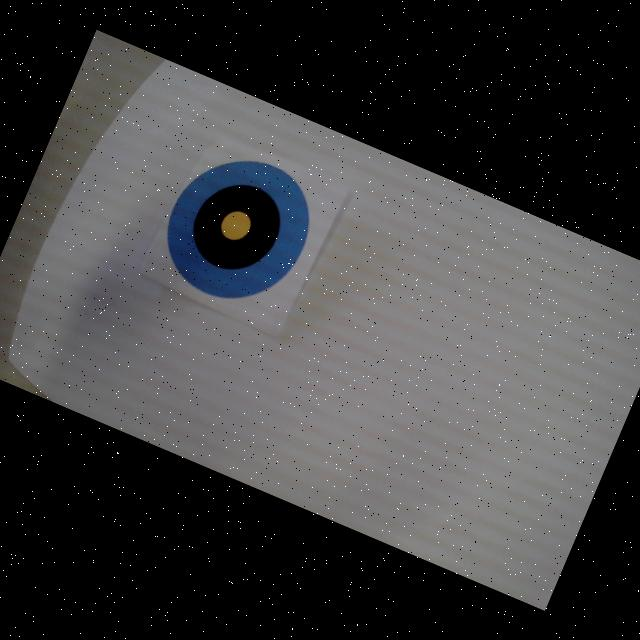COGNITIVE: (146, 134, 329, 321)
